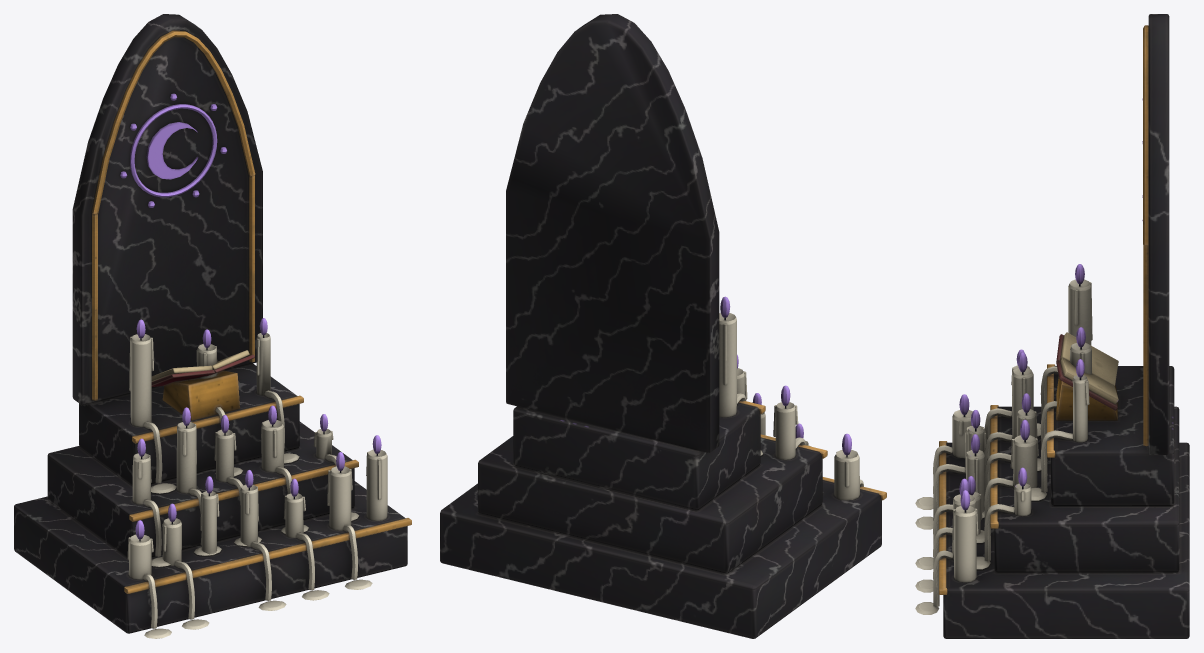
The model's file is WaxfallAltar.fbx.
3 renders of one model, left to right at view 1: azimuth 30°, elevation 25°; view 2: azimuth 150°, elevation 25°; view 3: azimuth 270°, elevation 25°, orthographic. The views are drawn at different scales.
Visible parts, largest first — view 1: WaxfallAltar_Main, WaxfallAltar_Glow; view 2: WaxfallAltar_Main, WaxfallAltar_Glow; view 3: WaxfallAltar_Main, WaxfallAltar_Glow.
Part boxes in pixels (x1=…): WaxfallAltar_Main: x1=14, y1=14, x2=411, y2=638; WaxfallAltar_Glow: x1=120, y1=93, x2=381, y2=539; WaxfallAltar_Main: x1=440, y1=14, x2=886, y2=638; WaxfallAltar_Glow: x1=720, y1=296, x2=851, y2=455; WaxfallAltar_Main: x1=915, y1=14, x2=1189, y2=638; WaxfallAltar_Glow: x1=959, y1=98, x2=1142, y2=510.
Size of the model in its own units: 344 by 591 by 267.
